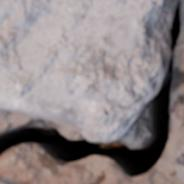brick: (0, 0, 176, 141), (176, 128, 183, 181)
broken_brick: (0, 180, 9, 183)
crack: (0, 0, 183, 182)
